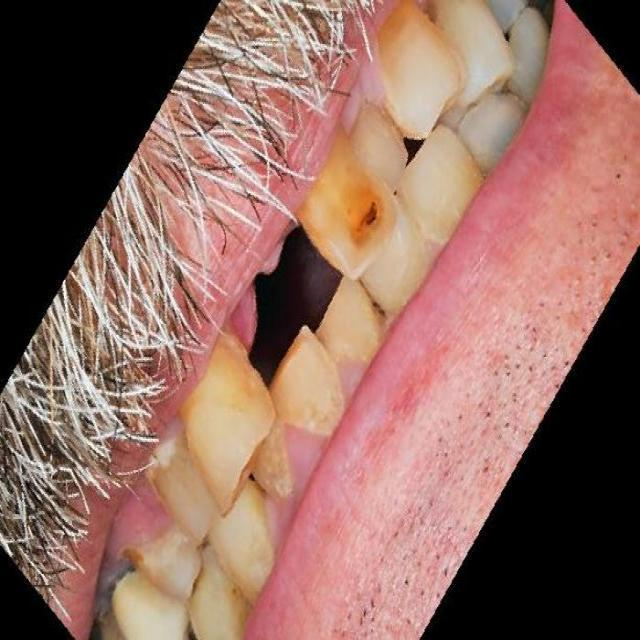CALCULUS: (298, 131, 400, 278)
